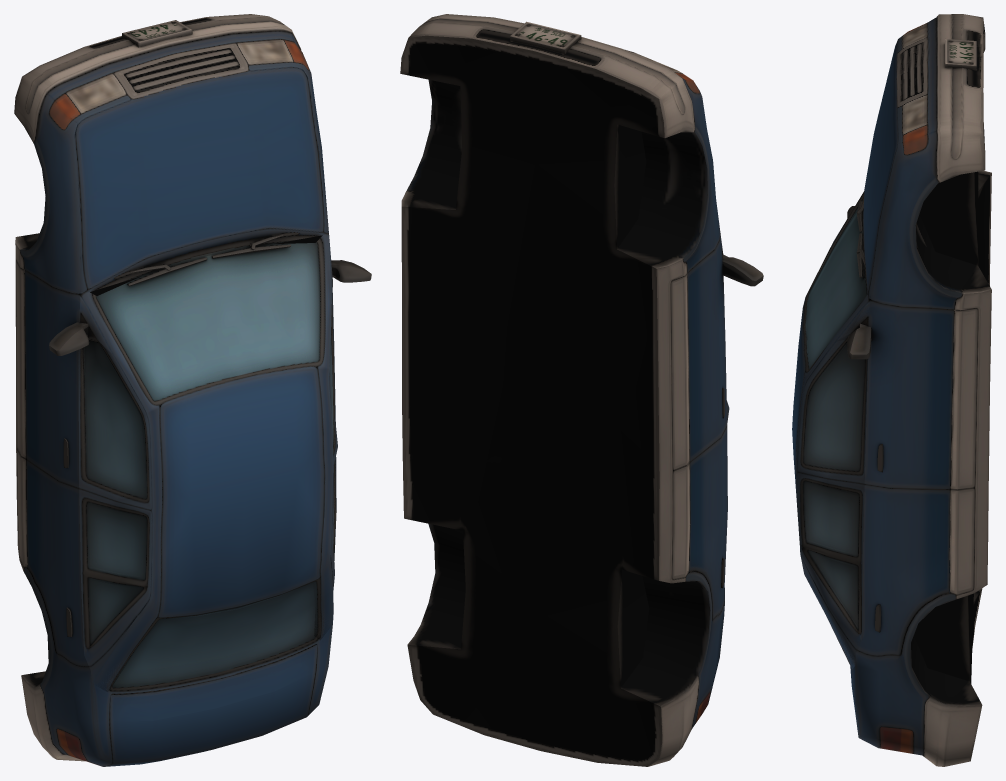
The model's file is lancero.obj.
The picture shows the model from 3 angles, left to right: view 1: azimuth 30°, elevation 25°; view 2: azimuth 150°, elevation 25°; view 3: azimuth 270°, elevation 25°; orthographic projection. The views are drawn at different scales.
Visible parts, largest first — view 1: Object005_Сіть.001; view 2: Object005_Сіть.001; view 3: Object005_Сіть.001.
Boxes of the visible parts, box(x1,y1,x2,y2) form: Object005_Сіть.001: box(14, 14, 371, 766); Object005_Сіть.001: box(400, 14, 763, 766); Object005_Сіть.001: box(792, 14, 991, 766).
Bounding box in the file's own units: 1.92 × 4.12 × 1.11.
Materials: 2 (2 with a texture image).
